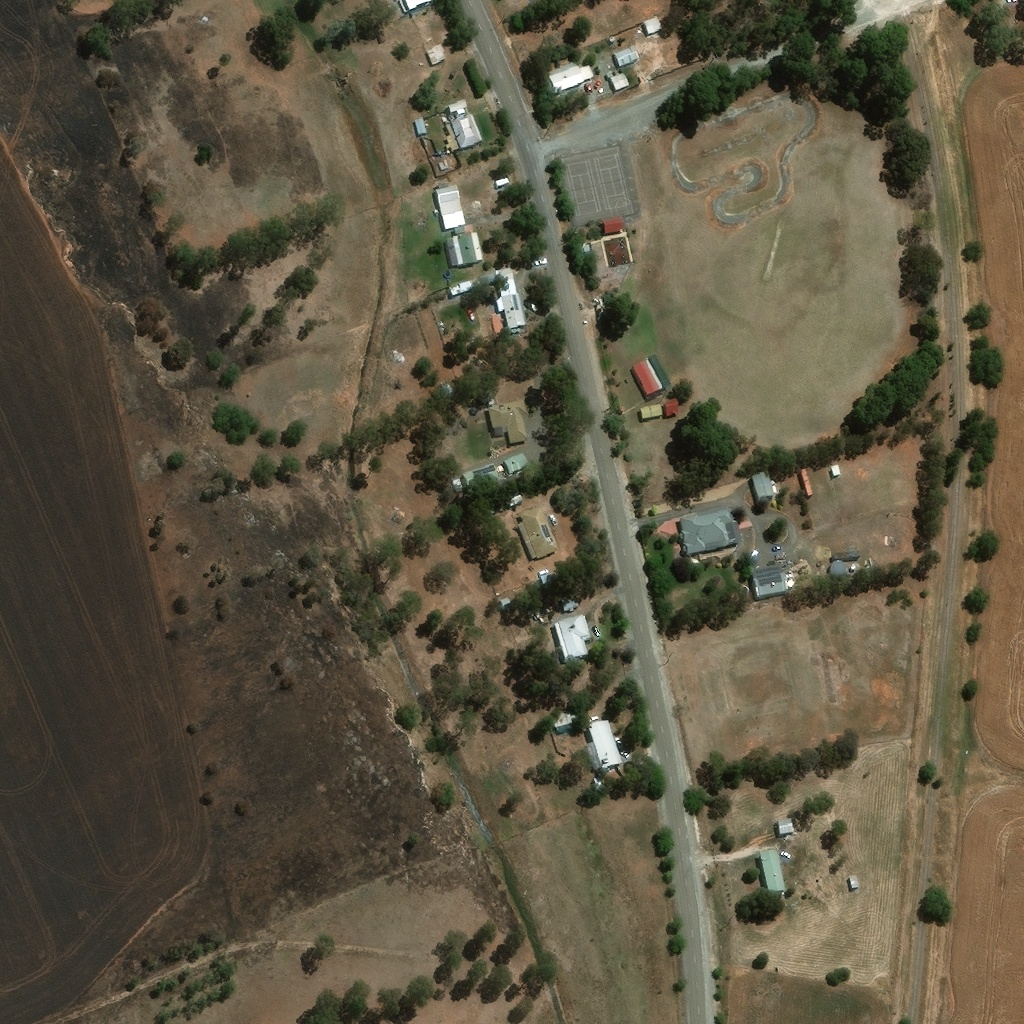0 no-damage: (449, 263, 526, 328), (678, 502, 744, 553), (516, 505, 558, 557), (487, 396, 529, 442), (587, 717, 623, 770), (631, 350, 672, 396), (554, 612, 593, 659), (549, 60, 595, 92), (750, 561, 788, 596), (758, 849, 786, 894), (450, 111, 483, 147), (604, 227, 635, 263), (461, 461, 499, 489), (457, 228, 486, 264), (435, 182, 463, 213), (552, 703, 584, 730), (751, 467, 777, 498), (501, 448, 531, 474), (445, 234, 464, 264), (613, 43, 639, 63), (642, 12, 668, 32), (442, 208, 465, 227), (640, 399, 664, 417), (600, 214, 625, 231), (427, 40, 446, 61), (609, 69, 629, 88), (801, 468, 815, 495), (560, 593, 582, 609), (830, 556, 849, 574), (447, 95, 468, 111), (663, 396, 681, 414), (777, 817, 795, 834), (413, 114, 429, 132), (438, 378, 454, 396), (582, 239, 595, 254), (848, 873, 860, 888), (454, 223, 468, 234), (608, 32, 620, 44), (500, 594, 512, 605), (832, 461, 841, 473), (454, 479, 463, 488), (786, 577, 796, 585)
3 destroyed: (634, 21, 643, 30)
4 un-classified: (436, 274, 443, 283)
